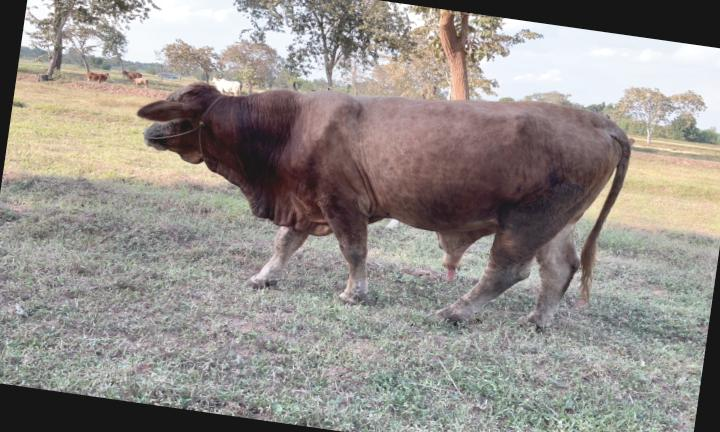Charolais: (137, 83, 630, 326)
